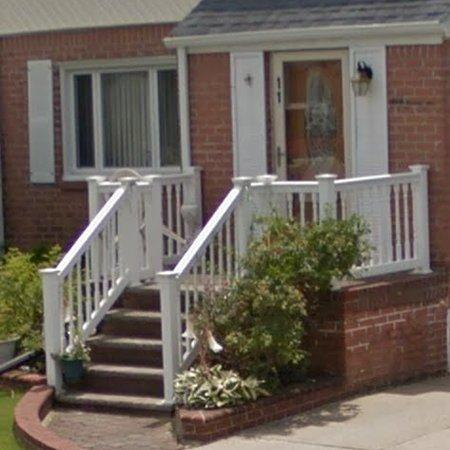stairs: (57, 221, 231, 411)
